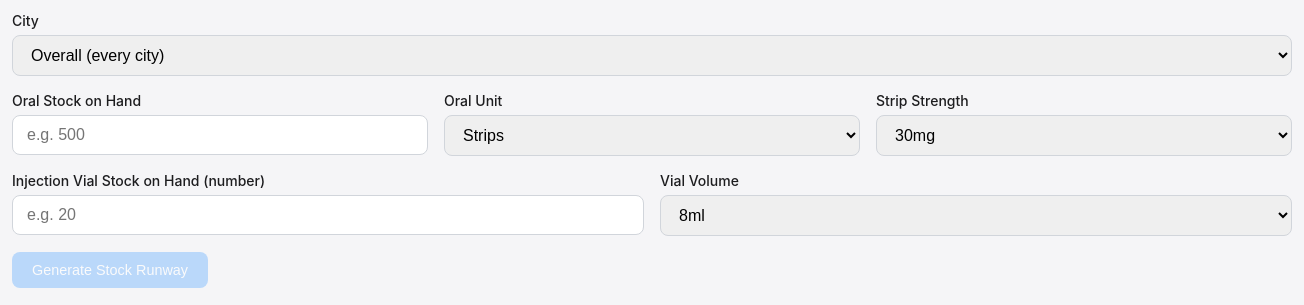
Test case: StockRunwayReport — form interaction › switching oral unit to mg hides the Strip Strength selector
The width and height of the screenshot is (1304, 305).
Select "mg" in the dropdown labelled "Oral Unit" at (652, 136), box x1=444 y1=115 x2=860 y2=156
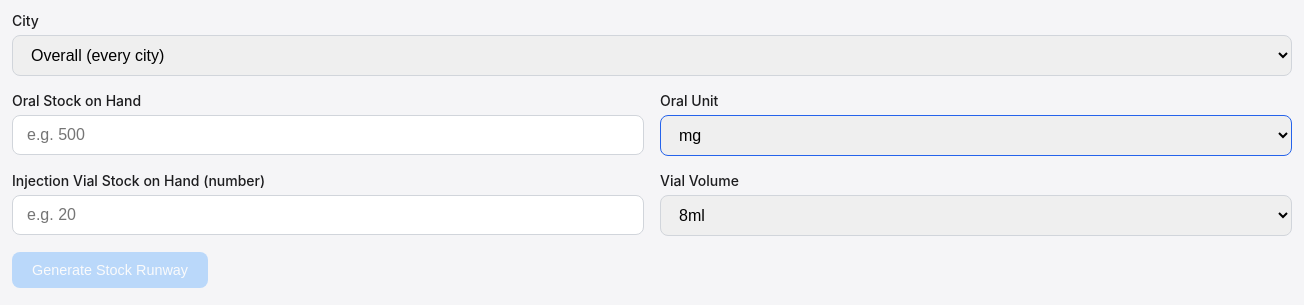
Result: the label labelled "Strip Strength" is gone
